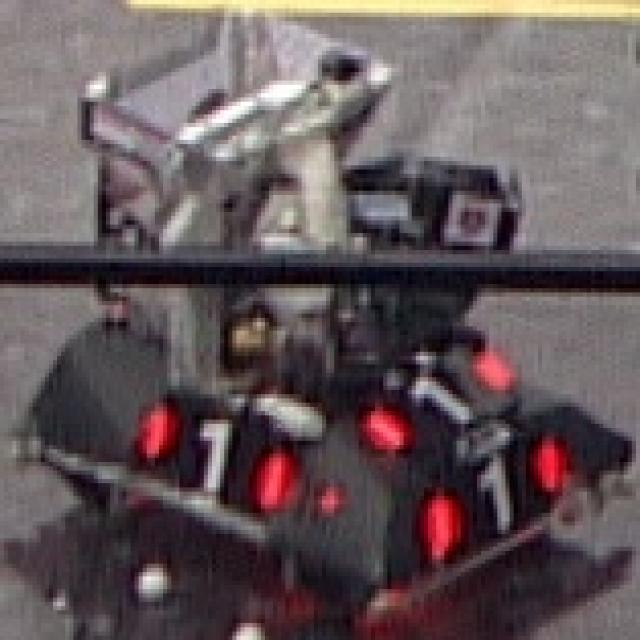R1: (397, 419, 577, 576), (114, 381, 290, 534), (346, 324, 526, 452)
